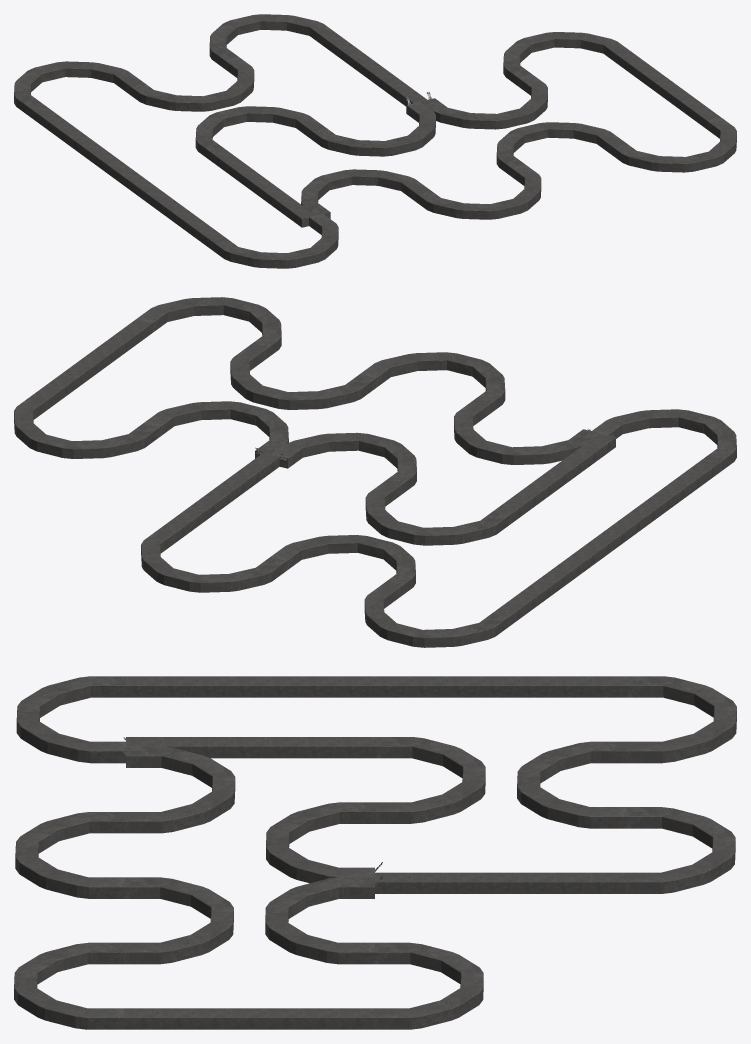
The model's file is Level.fbx.
3 renders of one model, top to bottom at view 1: azimuth 30°, elevation 25°; view 2: azimuth 150°, elevation 25°; view 3: azimuth 270°, elevation 25°, orthographic. The views are drawn at different scales.
Parts seen in each view (by area): view 1: polySurface583, polySurface587, polySurface588, polySurface584, polySurface586, polySurface585, polySurface592, polySurface591, polySurface594, polySurface589, polySurface593, polySurface590 (+9 smaller); view 2: polySurface593, polySurface589, polySurface591, polySurface594, polySurface592, polySurface584, polySurface590, polySurface587, polySurface583, polySurface586, polySurface588, polySurface585 (+9 smaller); view 3: polySurface594, polySurface583, polySurface593, polySurface591, polySurface587, polySurface588, polySurface585, polySurface586, polySurface592, polySurface590, polySurface589, polySurface577 (+12 smaller).
Part boxes in pixels (x1,y1,x2,y2): polySurface583: (127, 57, 254, 111); polySurface587: (609, 117, 736, 172); polySurface588: (211, 214, 338, 268); polySurface584: (308, 101, 435, 156); polySurface586: (414, 165, 541, 219); polySurface585: (421, 74, 547, 129); polySurface592: (209, 14, 336, 68); polySurface591: (496, 122, 623, 176); polySurface594: (503, 32, 629, 86); polySurface589: (195, 106, 322, 160); polySurface593: (14, 61, 140, 115); polySurface590: (301, 169, 427, 218); polySurface593: (364, 584, 510, 647); polySurface589: (365, 482, 511, 545); polySurface591: (230, 346, 375, 409); polySurface594: (14, 395, 159, 458); polySurface592: (141, 529, 286, 592); polySurface584: (272, 432, 416, 495); polySurface590: (454, 401, 599, 464); polySurface587: (137, 297, 281, 360); polySurface583: (271, 535, 415, 597); polySurface586: (360, 352, 505, 415); polySurface588: (592, 409, 736, 472); polySurface585: (144, 401, 288, 458); polySurface594: (373, 942, 483, 1029); polySurface583: (517, 741, 626, 828); polySurface593: (627, 676, 736, 763); polySurface591: (124, 877, 233, 964); polySurface587: (14, 942, 123, 1029); polySurface588: (16, 676, 126, 763); polySurface585: (265, 877, 374, 964); polySurface586: (15, 812, 125, 898); polySurface592: (625, 807, 735, 893); polySurface590: (125, 746, 235, 833); polySurface589: (376, 737, 485, 823); polySurface577: (126, 676, 341, 697).
Bounding box in the file's own units: 746 × 20.81 × 667.
